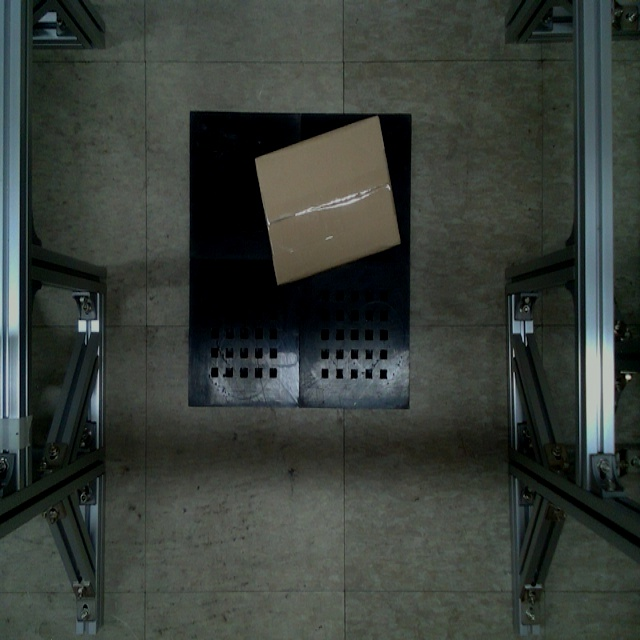box: (251, 115, 406, 289)
pallet: (185, 108, 414, 412)
